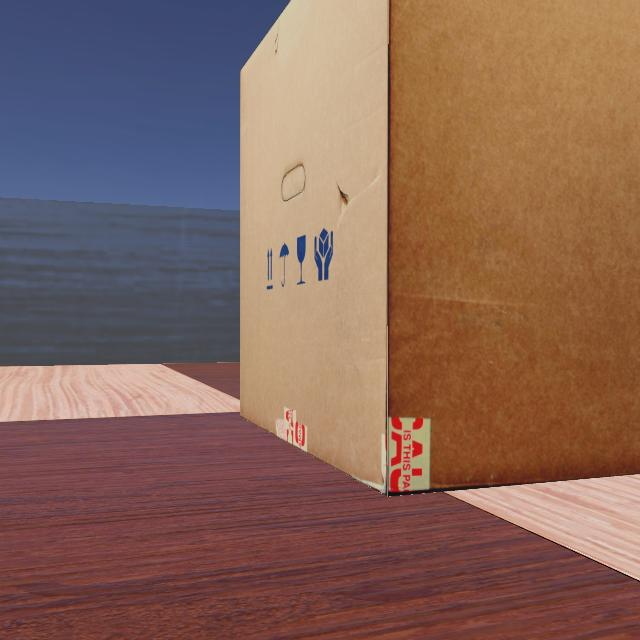cardboard-box: (161, 0, 639, 510)
